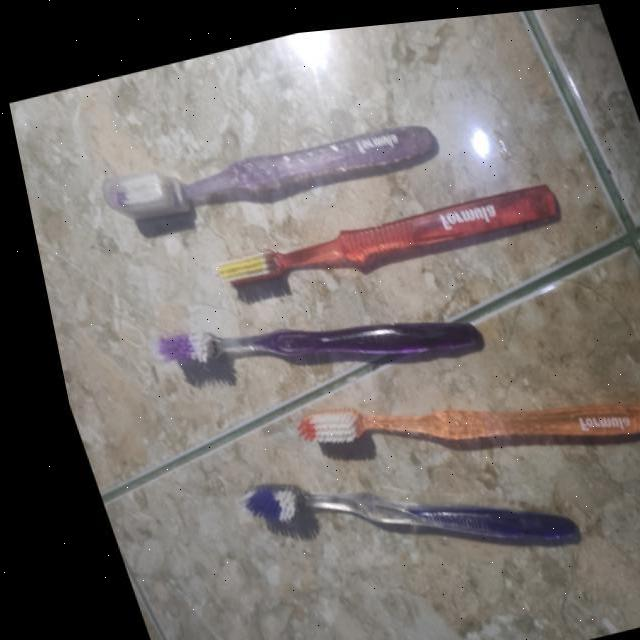toothbrush: (192, 395, 596, 640), (256, 306, 640, 542), (127, 248, 497, 432), (74, 81, 458, 251), (182, 166, 580, 312)
